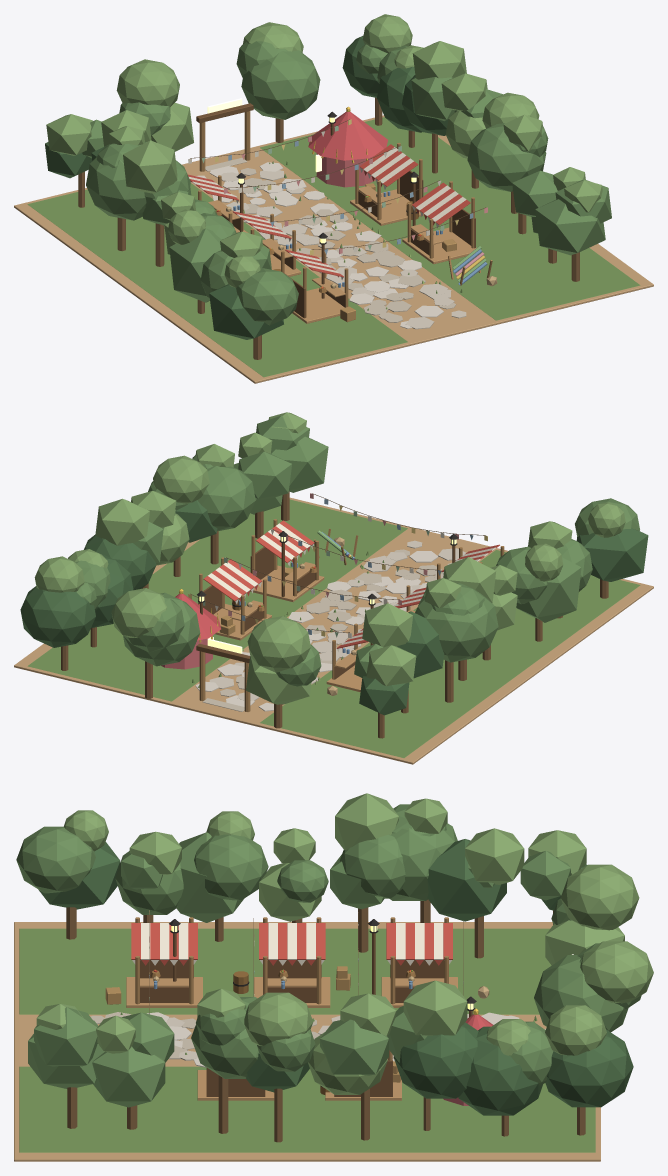
Rendered from echo_world_market_street.glb.
3 renders of one model, top to bottom at view 1: azimuth 30°, elevation 25°; view 2: azimuth 150°, elevation 25°; view 3: azimuth 270°, elevation 25°, orthographic. The views are drawn at different scales.
Parts seen in each view (by area): view 1: GROUND_Grass_R, GROUND_Grass_L, GROUND_MarketStreet, TREE_18_Leaf_1, TREE_11_Leaf_1, TREE_09_Leaf_1, TREE_01_Leaf_2, TENT_Roof, TREE_06_Leaf_1, TREE_17_Leaf_3, TREE_05_Leaf_3, TREE_03_Leaf_1 (+37 smaller); view 2: GROUND_Grass_R, GROUND_Grass_L, GROUND_MarketStreet, TREE_16_Leaf_1, TREE_06_Leaf_1, TREE_17_Leaf_3, TREE_11_Leaf_1, TREE_01_Leaf_1, TREE_03_Leaf_1, TREE_12_Leaf_3, TREE_18_Leaf_3, TREE_14_Leaf_3 (+37 smaller); view 3: GROUND_Grass_R, GROUND_Grass_L, GROUND_MarketStreet, TREE_16_Leaf_1, TREE_14_Leaf_1, TREE_15_Leaf_1, TREE_17_Leaf_3, TREE_01_Leaf_2, TREE_07_Leaf_1, TREE_03_Leaf_2, TREE_18_Leaf_3, TREE_10_Leaf_1 (+49 smaller).
Part boxes in pixels (x1=…): GROUND_Grass_R: x1=260, y1=117, x2=640, y2=320; GROUND_Grass_L: x1=27, y1=183, x2=407, y2=377; GROUND_MarketStreet: x1=14, y1=115, x2=653, y2=383; TREE_18_Leaf_1: x1=241, y1=50, x2=320, y2=119; TREE_11_Leaf_1: x1=467, y1=123, x2=546, y2=191; TREE_09_Leaf_1: x1=535, y1=199, x2=605, y2=255; TREE_01_Leaf_2: x1=236, y1=268, x2=298, y2=325; TENT_Roof: x1=308, y1=111, x2=387, y2=160; TREE_06_Leaf_1: x1=86, y1=156, x2=146, y2=220; TREE_17_Leaf_3: x1=116, y1=59, x2=179, y2=106; TREE_05_Leaf_3: x1=123, y1=140, x2=177, y2=193; TREE_03_Leaf_1: x1=169, y1=228, x2=221, y2=302; GROUND_Grass_R: x1=27, y1=499, x2=407, y2=701; GROUND_Grass_L: x1=260, y1=550, x2=640, y2=757; GROUND_MarketStreet: x1=14, y1=497, x2=653, y2=764; TREE_16_Leaf_1: x1=20, y1=586, x2=95, y2=647; TREE_06_Leaf_1: x1=415, y1=592, x2=498, y2=662; TREE_17_Leaf_3: x1=247, y1=616, x2=310, y2=672; TREE_11_Leaf_1: x1=197, y1=466, x2=255, y2=531; TREE_01_Leaf_1: x1=576, y1=528, x2=648, y2=581; TREE_03_Leaf_1: x1=516, y1=557, x2=581, y2=622; TREE_12_Leaf_3: x1=153, y1=455, x2=209, y2=503; TREE_18_Leaf_3: x1=111, y1=588, x2=167, y2=637; TREE_14_Leaf_3: x1=95, y1=498, x2=149, y2=545; GROUND_Grass_R: x1=19, y1=1066, x2=595, y2=1152; GROUND_Grass_L: x1=19, y1=928, x2=551, y2=1014; GROUND_MarketStreet: x1=14, y1=922, x2=600, y2=1161; TREE_16_Leaf_1: x1=545, y1=1029, x2=633, y2=1107; TREE_14_Leaf_1: x1=393, y1=1022, x2=478, y2=1098; TREE_15_Leaf_1: x1=458, y1=1026, x2=542, y2=1115; TREE_17_Leaf_3: x1=560, y1=864, x2=639, y2=930; TREE_01_Leaf_2: x1=16, y1=826, x2=95, y2=893; TREE_07_Leaf_1: x1=427, y1=839, x2=506, y2=921; TREE_03_Leaf_2: x1=194, y1=834, x2=268, y2=900; TREE_18_Leaf_3: x1=580, y1=941, x2=653, y2=1003; TREE_10_Leaf_1: x1=92, y1=1046, x2=165, y2=1107.
Bounding box in the file's own units: 22.83 × 6.79 × 25.08.
